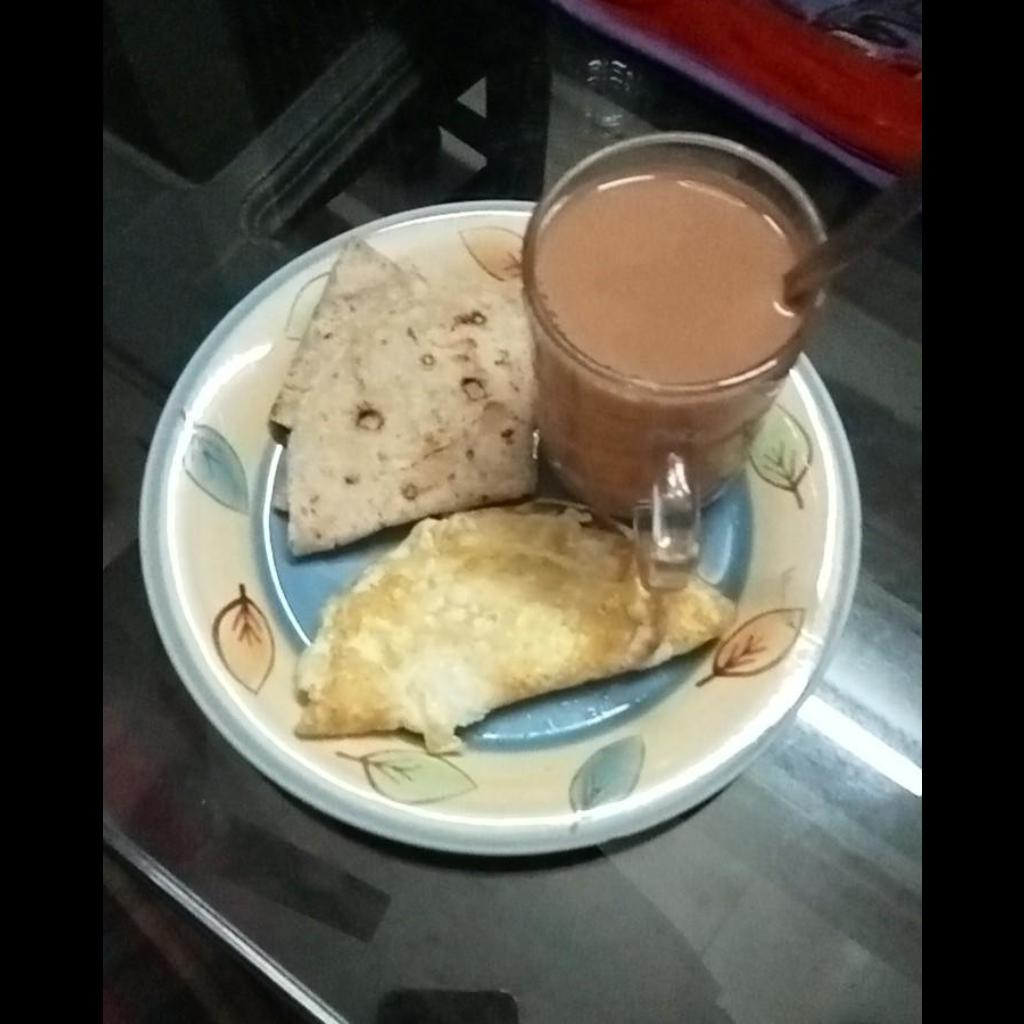bread: (262, 239, 539, 551)
cha: (536, 149, 813, 379)
egg-poached: (283, 500, 736, 759)
